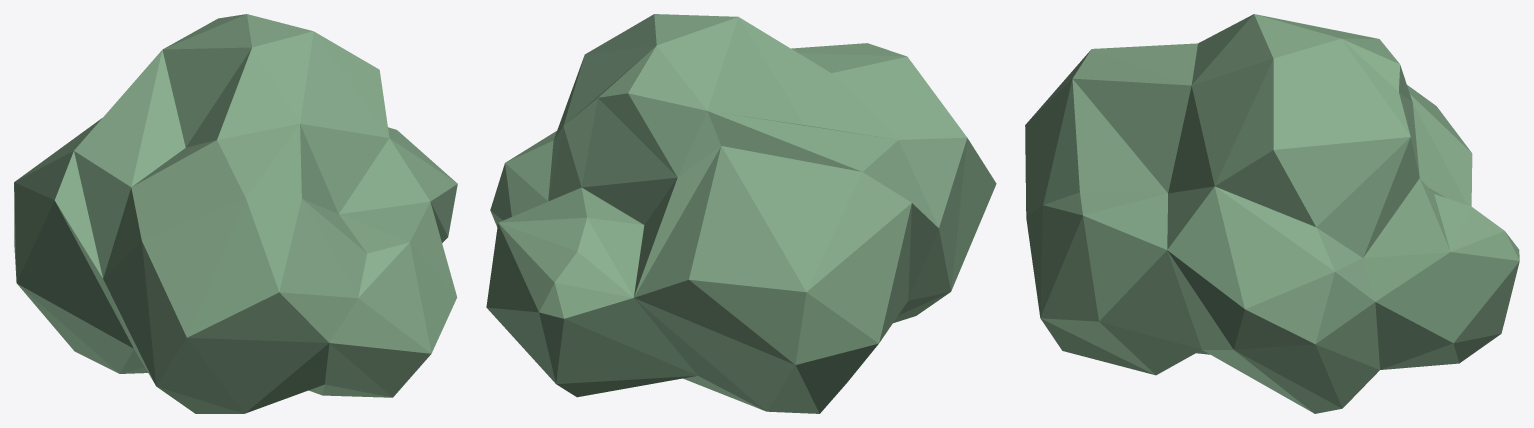
Rendered from MediumBush_FBX.fbx.
The picture shows the model from 3 angles, left to right: view 1: azimuth 30°, elevation 25°; view 2: azimuth 150°, elevation 25°; view 3: azimuth 270°, elevation 25°; orthographic projection. The views are drawn at different scales.
Visible parts, largest first — view 1: Bush1; view 2: Bush1; view 3: Bush1.
Part boxes in pixels (x1,y1,x2,y2): Bush1: (14, 14, 457, 413); Bush1: (486, 14, 996, 413); Bush1: (1025, 14, 1519, 413).
Size of the model in its own units: 139 by 111 by 145.
